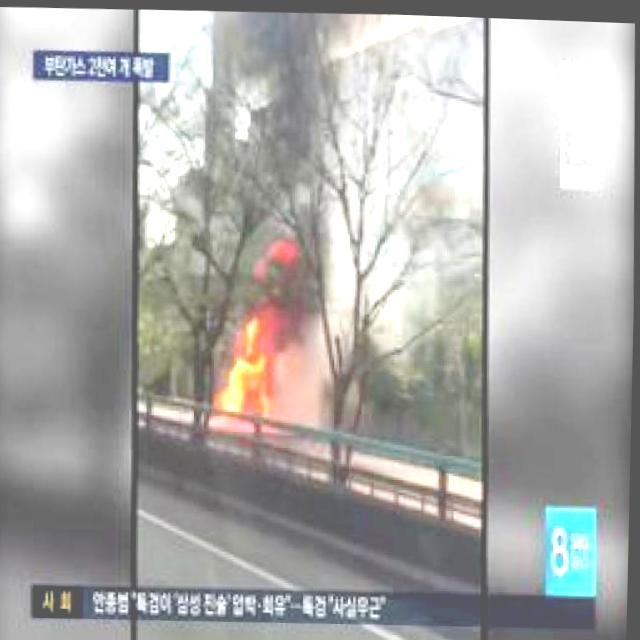Fire: (208, 300, 287, 416)
Smoke: (276, 19, 502, 419)
